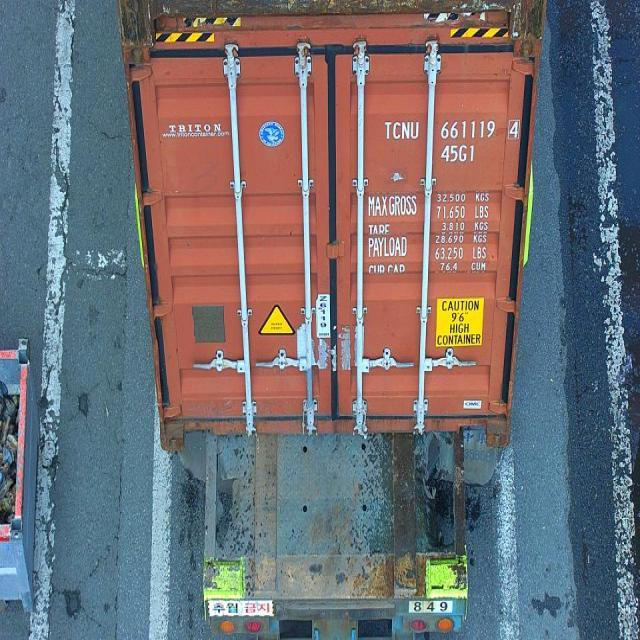ISO: (440, 144, 478, 162)
container_number: (384, 118, 522, 142)
